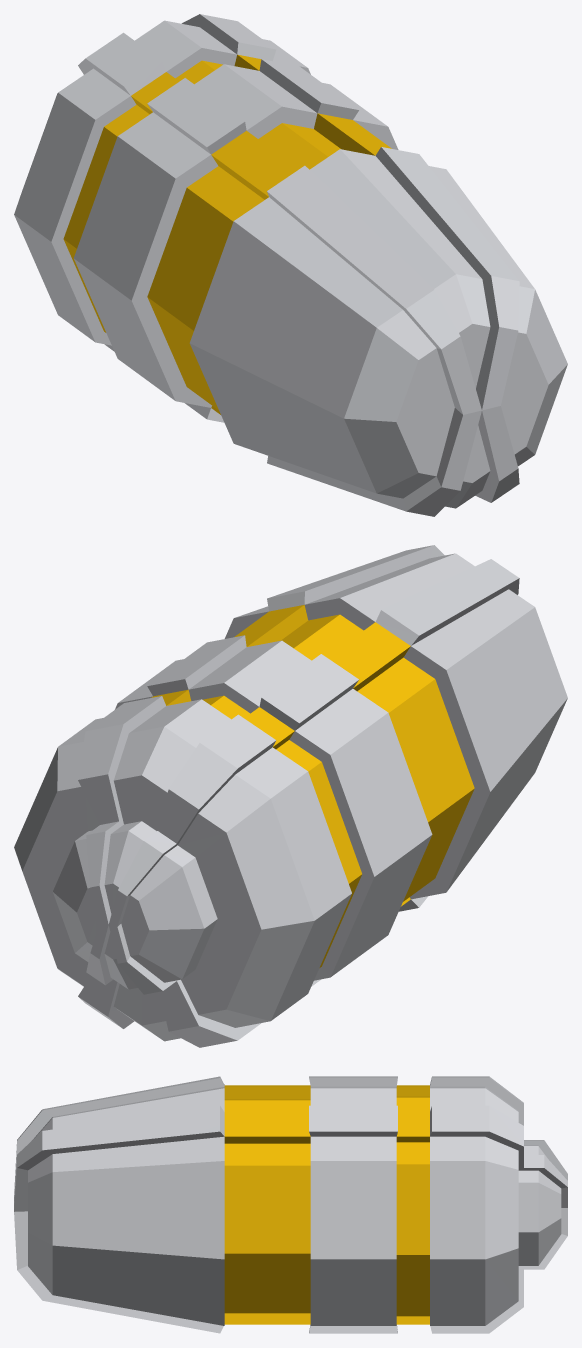
File: bullet.glb
The picture shows the model from 3 angles, top to bottom: view 1: azimuth 30°, elevation 25°; view 2: azimuth 150°, elevation 25°; view 3: azimuth 270°, elevation 25°; orthographic projection. The views are drawn at different scales.
Parts seen in each view (by area): view 1: Energy_Rifle_Metal_White.001_0, Energy_Rifle_Metal_Yellow.001_0; view 2: Energy_Rifle_Metal_White.001_0, Energy_Rifle_Metal_Yellow.001_0; view 3: Energy_Rifle_Metal_White.001_0, Energy_Rifle_Metal_Yellow.001_0.
Boxes of the visible parts, left/top/right/bottom form: Energy_Rifle_Metal_White.001_0: left=14, top=14, right=567, bottom=516; Energy_Rifle_Metal_Yellow.001_0: left=63, top=54, right=391, bottom=414; Energy_Rifle_Metal_White.001_0: left=14, top=545, right=567, bottom=1047; Energy_Rifle_Metal_Yellow.001_0: left=151, top=605, right=474, bottom=967; Energy_Rifle_Metal_White.001_0: left=14, top=1076, right=567, bottom=1333; Energy_Rifle_Metal_Yellow.001_0: left=224, top=1085, right=429, bottom=1324.
Bounding box in the file's own units: 0.0292 × 0.0292 × 0.0628.
